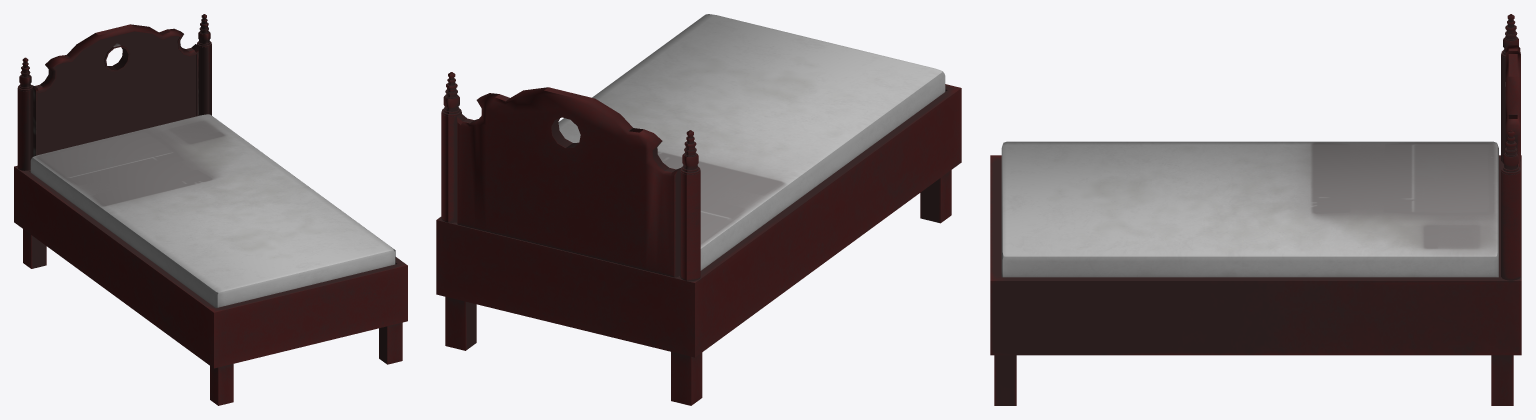
The model's file is SM_Bed.fbx.
3 views of the same model, side by side, from view 1: azimuth 30°, elevation 25°; view 2: azimuth 150°, elevation 25°; view 3: azimuth 270°, elevation 25° (orthographic). The views are drawn at different scales.
Parts seen in each view (by area): view 1: SM_Bed; view 2: SM_Bed; view 3: SM_Bed.
Part boxes in pixels (left/top/right/bottom): SM_Bed: left=14, top=14, right=407, bottom=405; SM_Bed: left=436, top=14, right=961, bottom=405; SM_Bed: left=990, top=14, right=1521, bottom=405.
Bounding box in the file's own units: 124 × 222 × 129.
Materials: 1 (1 with a texture image).
